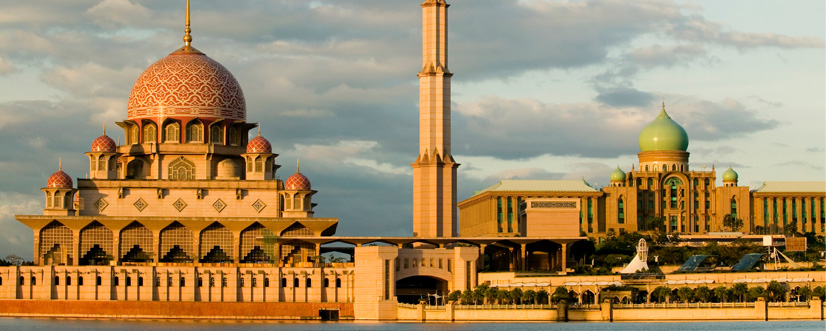Mosque: (3, 3, 825, 309)
